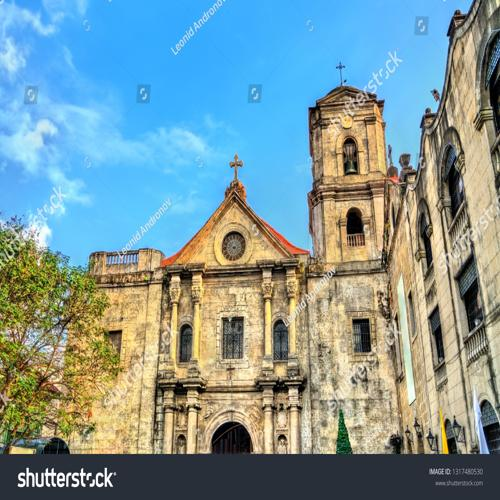San Agustin Church: (141, 45, 406, 454)
